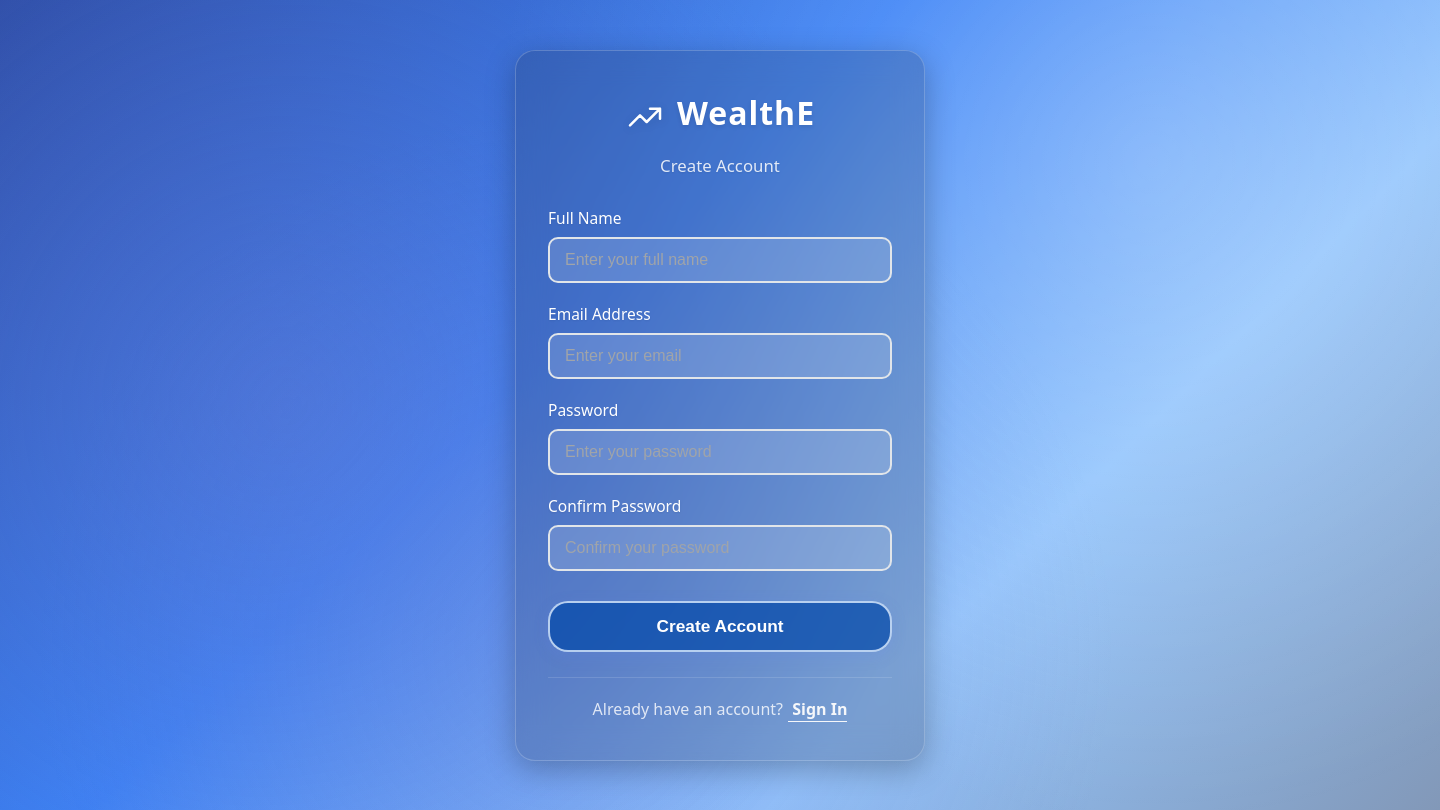
Scenario: Register Component › shows validation errors for empty fields
Click the button "Create Account" at {"x": 720, "y": 626}, box [548, 600, 892, 652]
(page scrolled)
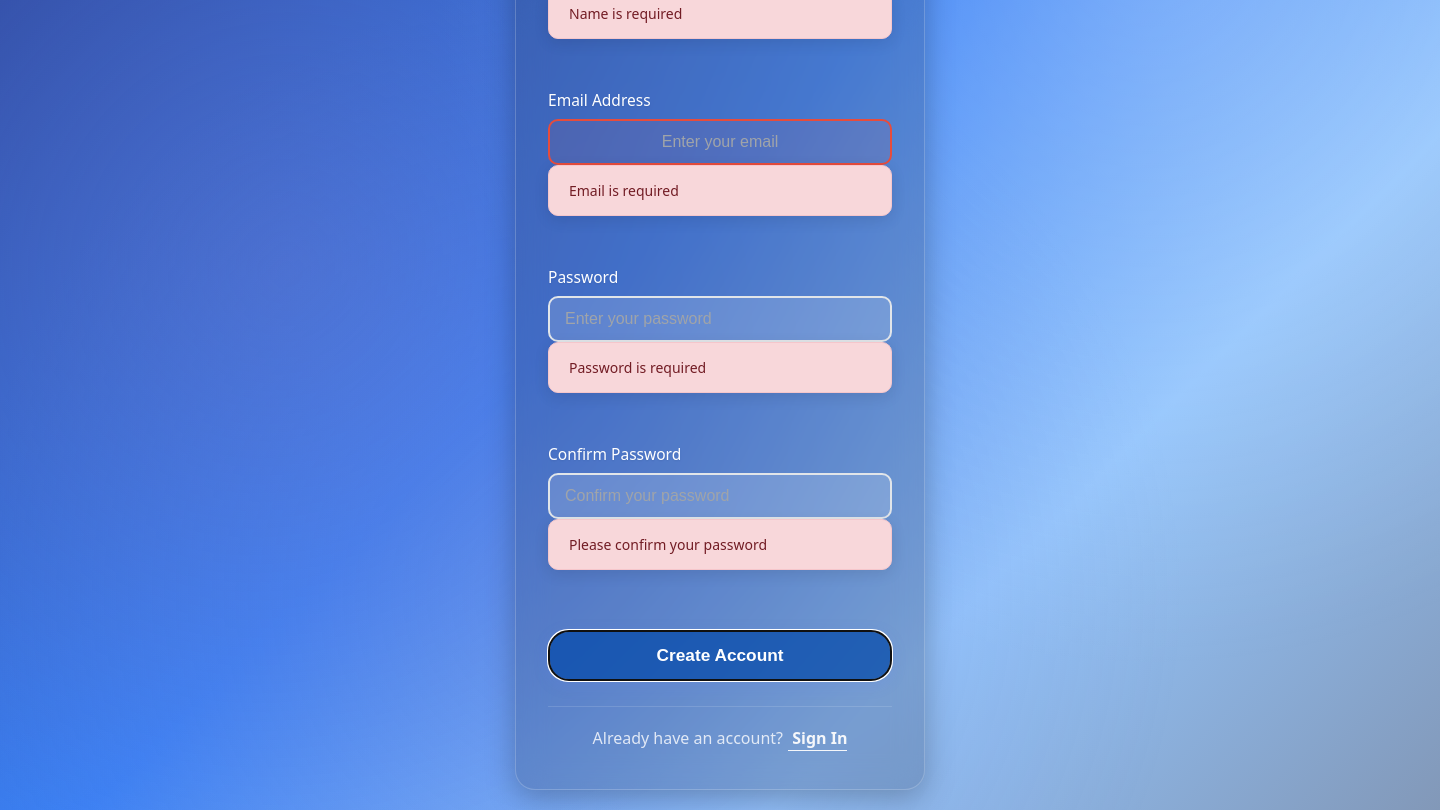
Expected: the text "Email is required" is shown, [548, 165, 892, 216]
Expected: the text "Password is required" is shown, [548, 342, 892, 393]
Expected: the text "Please confirm your password" is shown, [548, 519, 892, 570]
